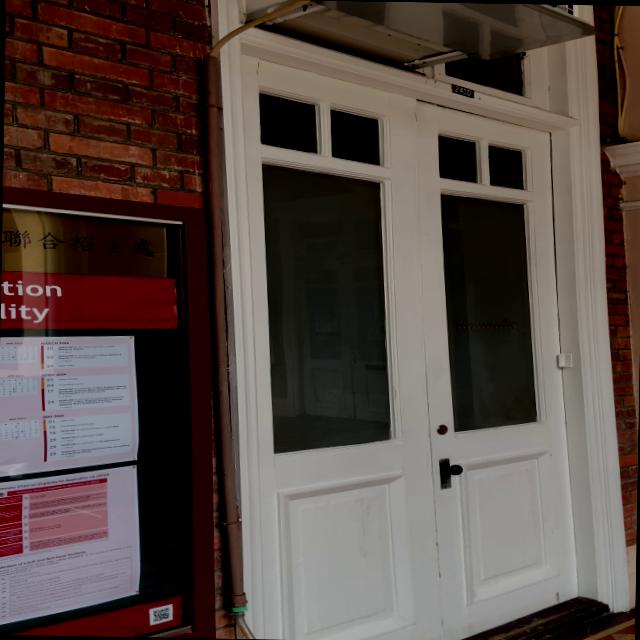room241d: (446, 81, 476, 100)
